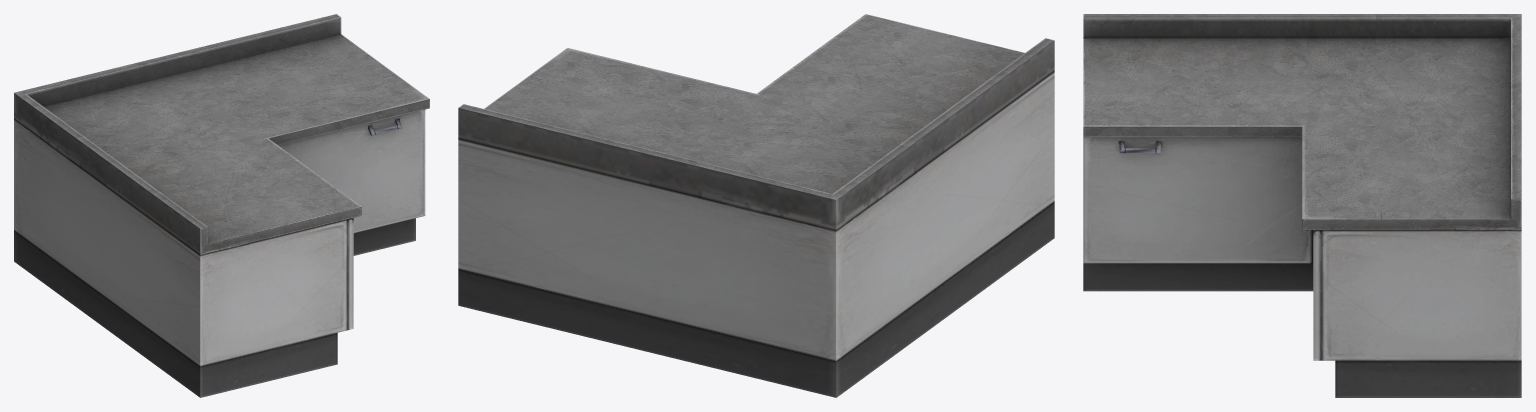
The model's file is Kitchen06.FBX.
3 renders of one model, left to right at view 1: azimuth 30°, elevation 25°; view 2: azimuth 150°, elevation 25°; view 3: azimuth 270°, elevation 25°, orthographic. The views are drawn at different scales.
Parts seen in each view (by area): view 1: Kitchen06; view 2: Kitchen06; view 3: Kitchen06.
Part boxes in pixels (box(x1,y1,x2,y2)): Kitchen06: box(14, 14, 429, 397); Kitchen06: box(458, 14, 1054, 397); Kitchen06: box(1083, 14, 1521, 397).
Bounding box in the file's own units: 2 × 1 × 2.
